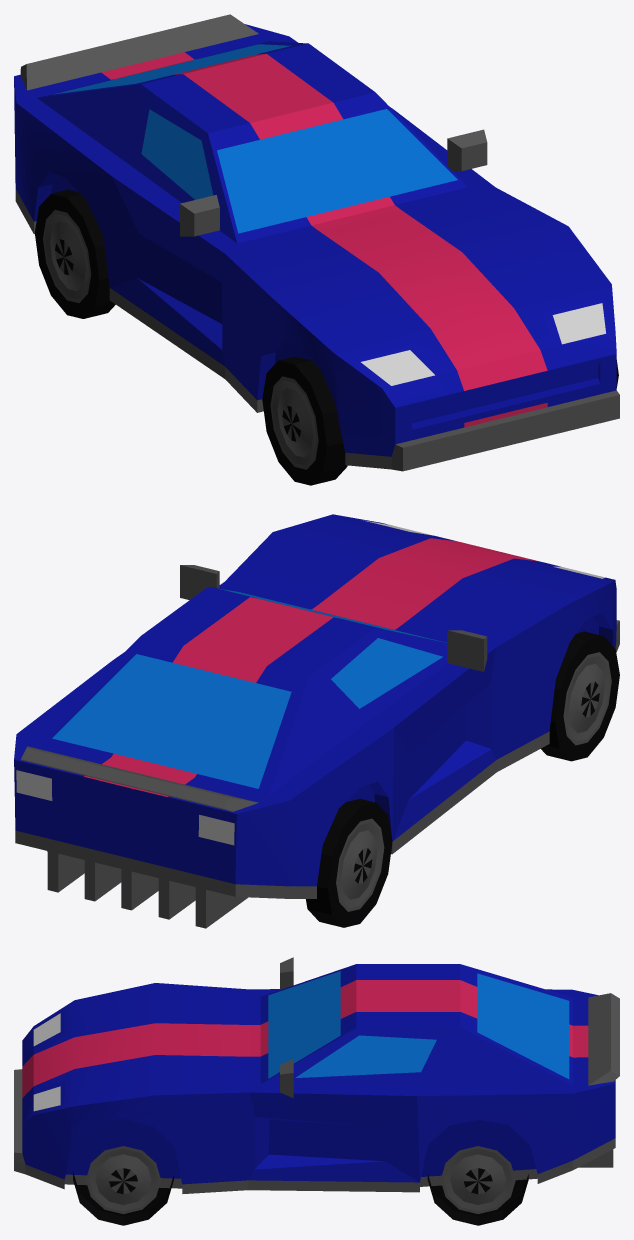
Rendered from Vehicle_02.obj.
The picture shows the model from 3 angles, top to bottom: view 1: azimuth 30°, elevation 25°; view 2: azimuth 150°, elevation 25°; view 3: azimuth 270°, elevation 25°; orthographic projection. The views are drawn at different scales.
Parts seen in each view (by area): view 1: Veh_02_SR_Veh_MuscleSports_Black; view 2: Veh_02_SR_Veh_MuscleSports_Black; view 3: Veh_02_SR_Veh_MuscleSports_Black.
Part boxes in pixels (bbox=[...]): Veh_02_SR_Veh_MuscleSports_Black: bbox=[14, 14, 619, 485]; Veh_02_SR_Veh_MuscleSports_Black: bbox=[14, 514, 619, 928]; Veh_02_SR_Veh_MuscleSports_Black: bbox=[14, 957, 619, 1225].
Bounding box in the file's own units: 0.2634 × 0.1852 × 0.583.
